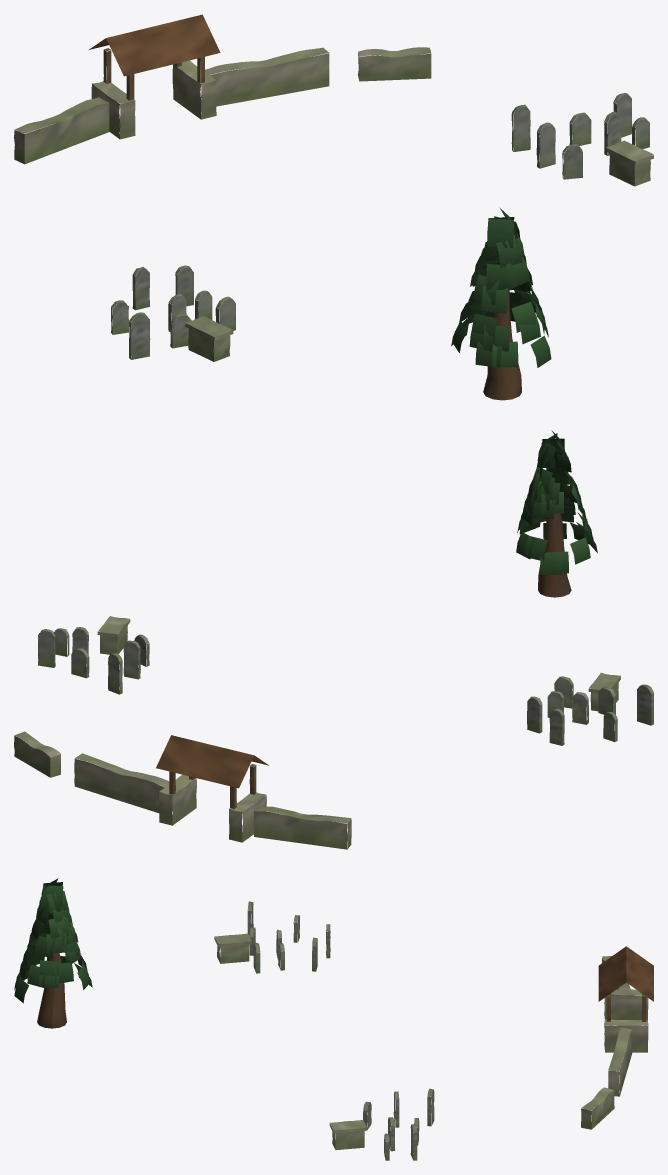
Rendered from hollow_crypt_entrance_props.glb.
3 views of the same model, one above another, from view 1: azimuth 30°, elevation 25°; view 2: azimuth 150°, elevation 25°; view 3: azimuth 270°, elevation 25° (orthographic). The views are drawn at different scales.
Visible parts, largest first — view 1: Entrance_Outside; view 2: Entrance_Outside; view 3: Entrance_Outside.
Boxes of the visible parts, left/top/right/bottom form: Entrance_Outside: left=14, top=14, right=653, bottom=400; Entrance_Outside: left=14, top=430, right=653, bottom=849; Entrance_Outside: left=14, top=878, right=653, bottom=1160.
Size of the model in its own units: 35.19 by 10.33 by 41.68.
